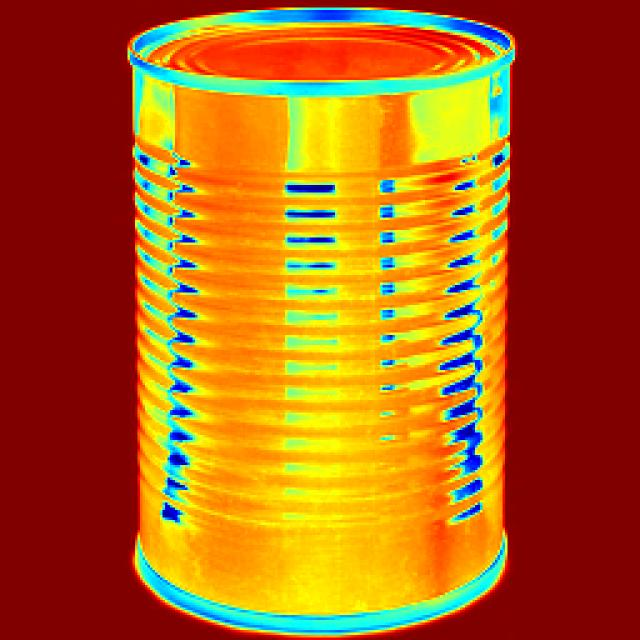Aluminium Food Cans: (133, 10, 510, 612)
